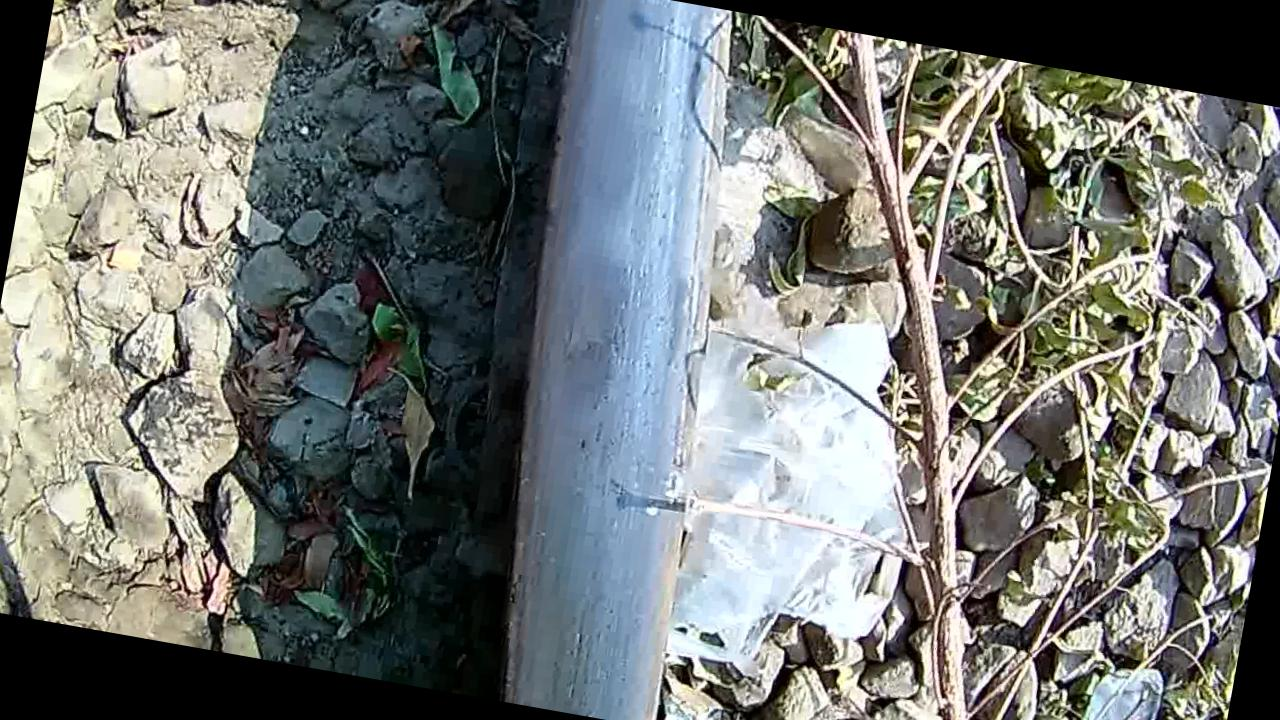bolt_missing: (498, 178, 706, 512)
